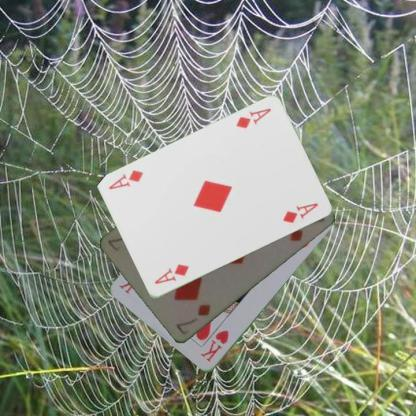7d: (173, 302, 212, 337)
Ad: (152, 262, 190, 286), (234, 106, 272, 130)
Kh: (198, 328, 231, 364)
